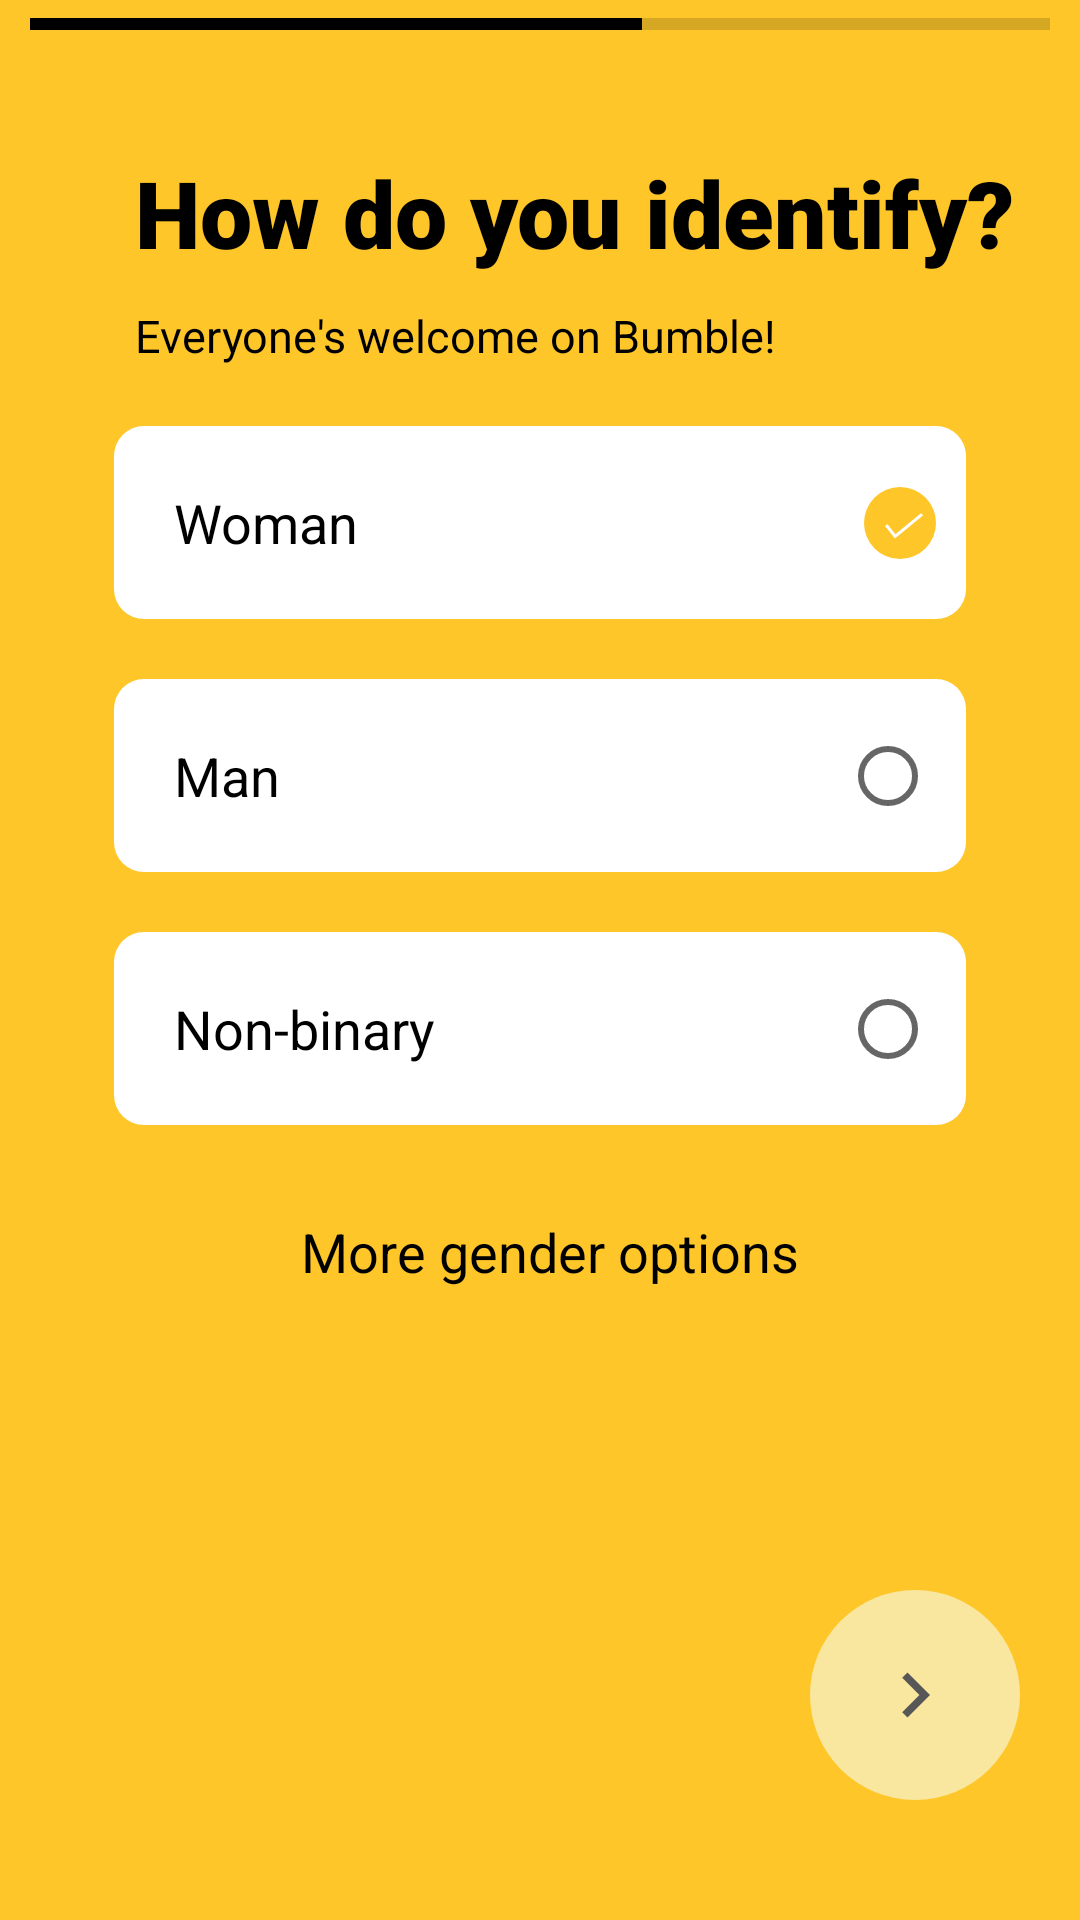

Icons on this 1080x1920 Android screen, each with its box as region(x1, y1, x2, y2):
navigate next: region(810, 1590, 1020, 1800)
